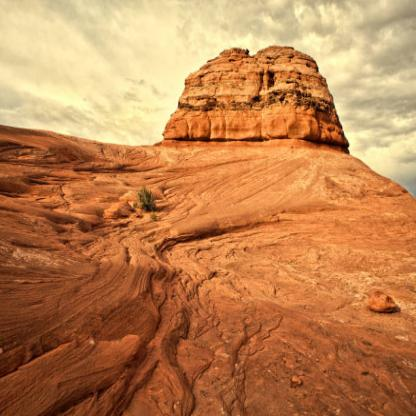Sedimentary_Sandstone: (159, 32, 349, 150)
